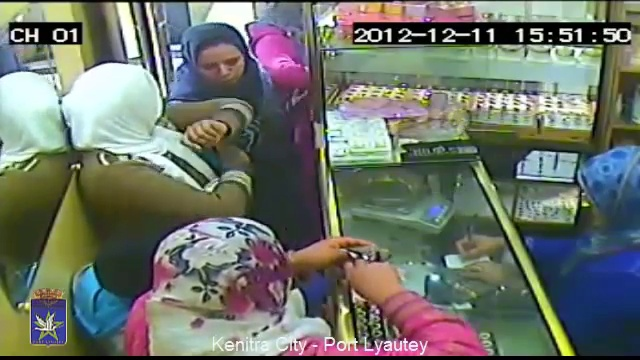face: (200, 42, 243, 90)
